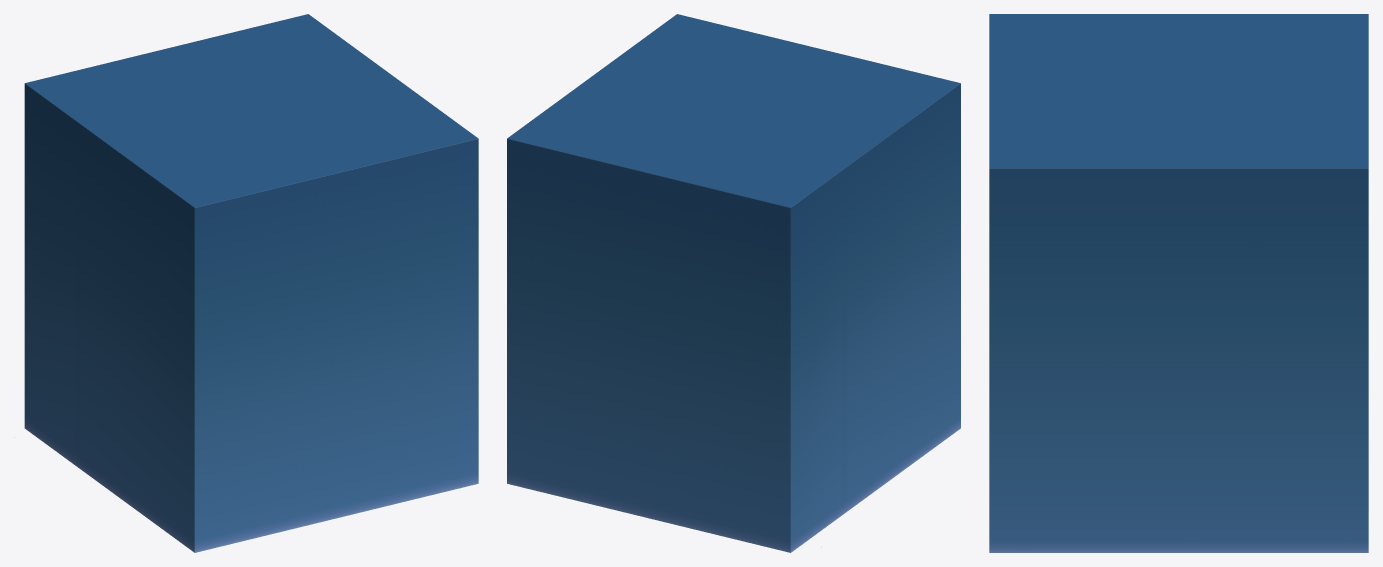
The model's file is test-zone.glb.
The picture shows the model from 3 angles, left to right: view 1: azimuth 30°, elevation 25°; view 2: azimuth 150°, elevation 25°; view 3: azimuth 270°, elevation 25°; orthographic projection. The views are drawn at different scales.
Visible parts, largest first — view 1: TutorialSky; view 2: TutorialSky; view 3: TutorialSky.
Boxes of the visible parts, x1,y1,x2,y2 form: TutorialSky: (24, 14, 478, 552); TutorialSky: (507, 14, 960, 552); TutorialSky: (989, 14, 1368, 552).
Size of what is drawn, in the model's own units: 1581 by 1722 by 1531.
5 materials, 2 textured.
